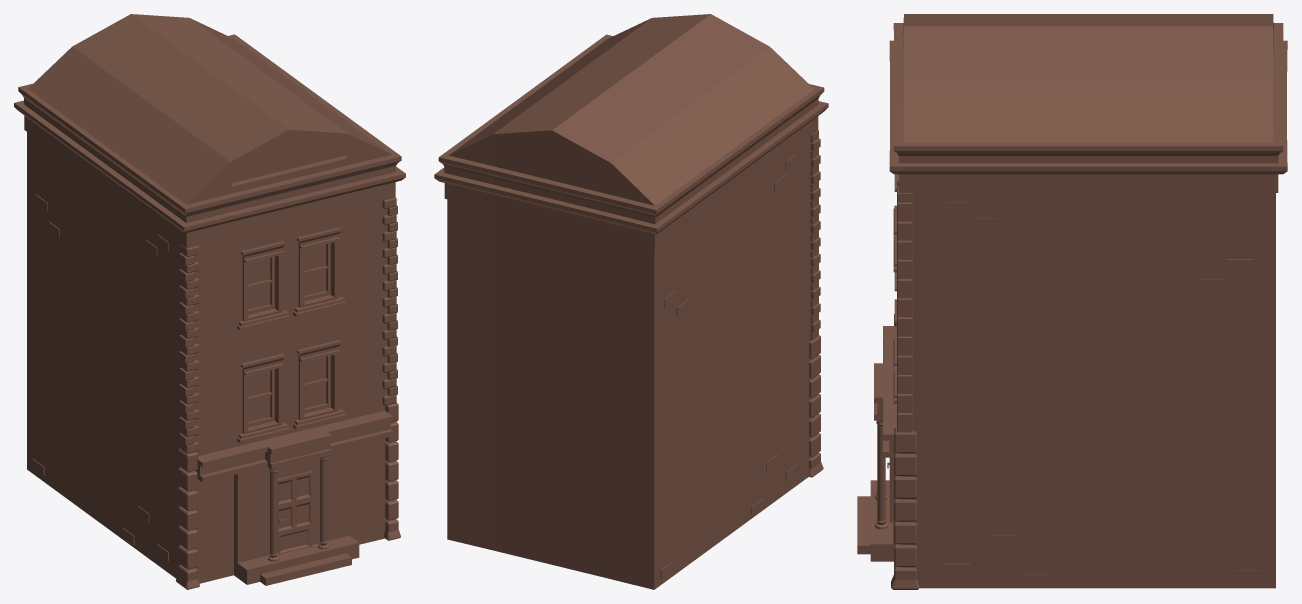
File: building3_small.glb
3 views of the same model, side by side, from view 1: azimuth 30°, elevation 25°; view 2: azimuth 150°, elevation 25°; view 3: azimuth 270°, elevation 25° (orthographic). The views are drawn at different scales.
Parts seen in each view (by area): view 1: Building3_Small_Cube.019; view 2: Building3_Small_Cube.019; view 3: Building3_Small_Cube.019.
Part boxes in pixels (left/top/right/bottom): Building3_Small_Cube.019: left=14, top=14, right=405, bottom=589; Building3_Small_Cube.019: left=434, top=14, right=828, bottom=589; Building3_Small_Cube.019: left=857, top=14, right=1287, bottom=589.
Size of the model in its own units: 1.53 by 2.84 by 2.2.
